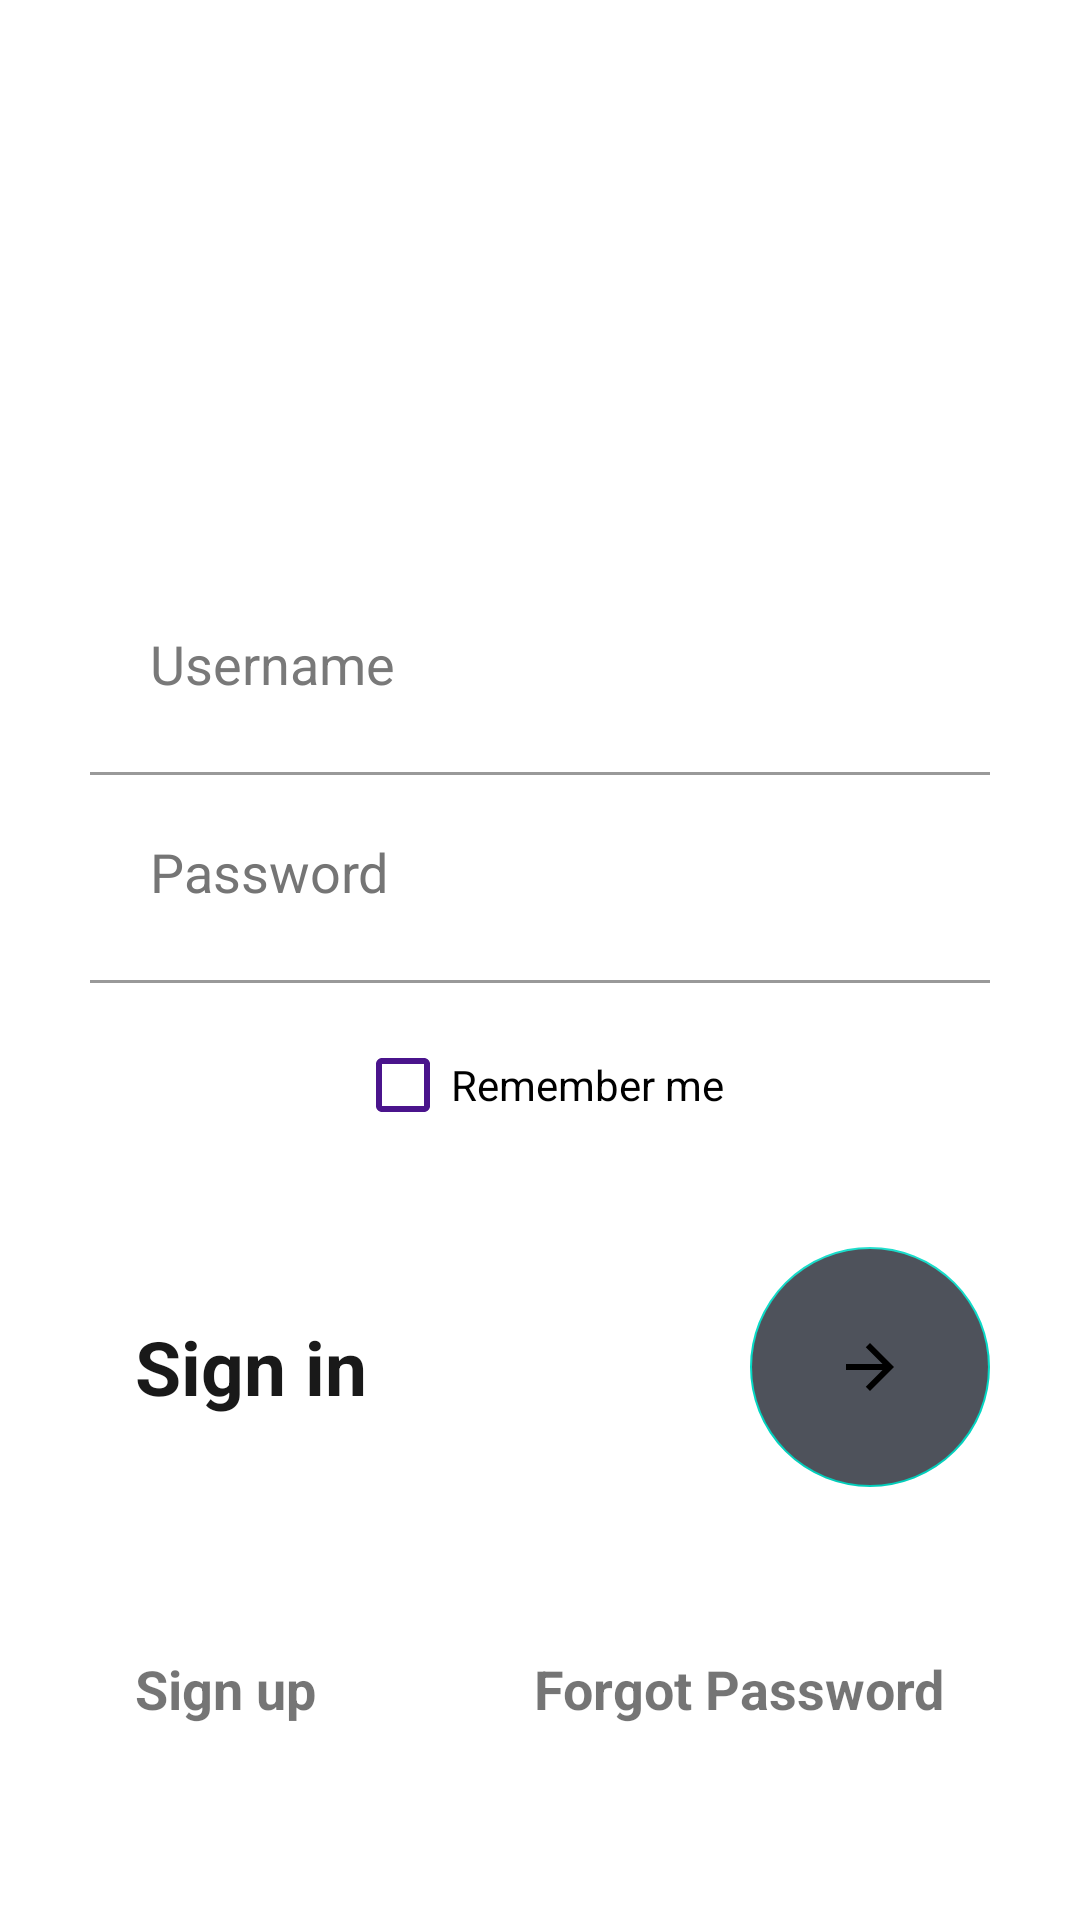

Named icons in this screenshot (1080px x 1920px) and their bounding boxes, (left=x1, top=y1, right=x2, bottom=y2):
arrow forward: (left=750, top=1247, right=990, bottom=1487)
